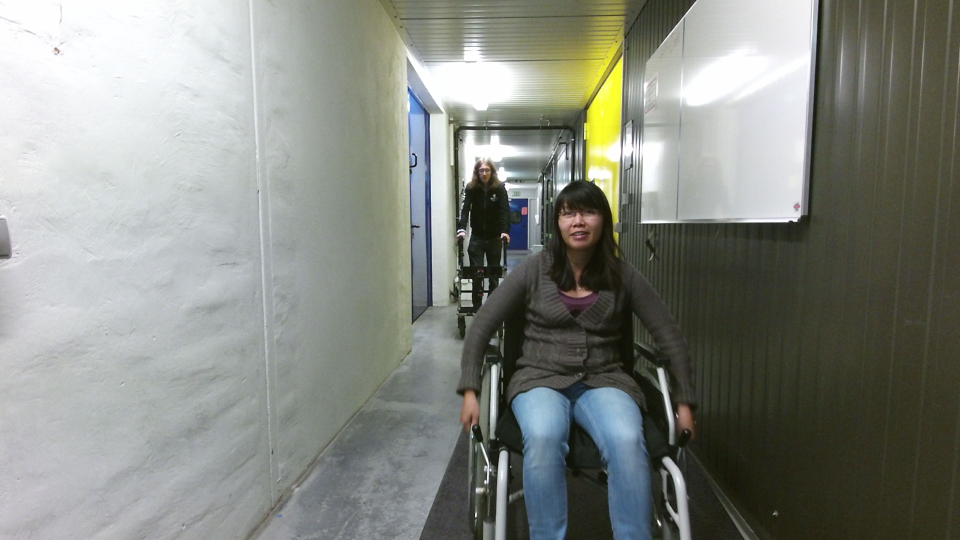wheelchair: (457, 180, 698, 540)
